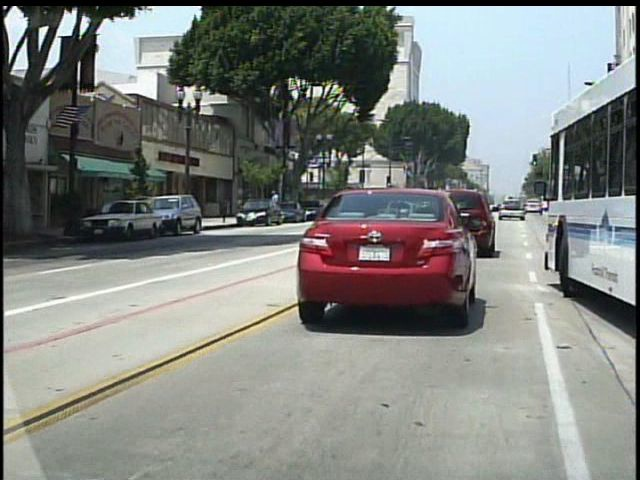person: (270, 188, 284, 225)
